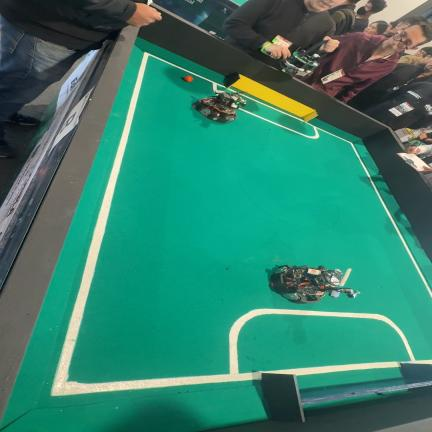cancha: (2, 41, 432, 432)
limites: (51, 52, 432, 396), (244, 110, 432, 298), (240, 90, 309, 123), (264, 362, 399, 376), (193, 74, 223, 92)
pelota: (182, 76, 193, 82)
porteria: (258, 362, 432, 422), (223, 72, 318, 122)
robot: (270, 265, 360, 304), (192, 90, 246, 124), (281, 42, 321, 76)
